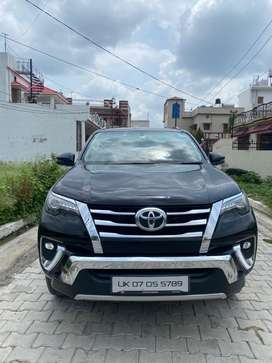UK07055789: (111, 274, 188, 291)
